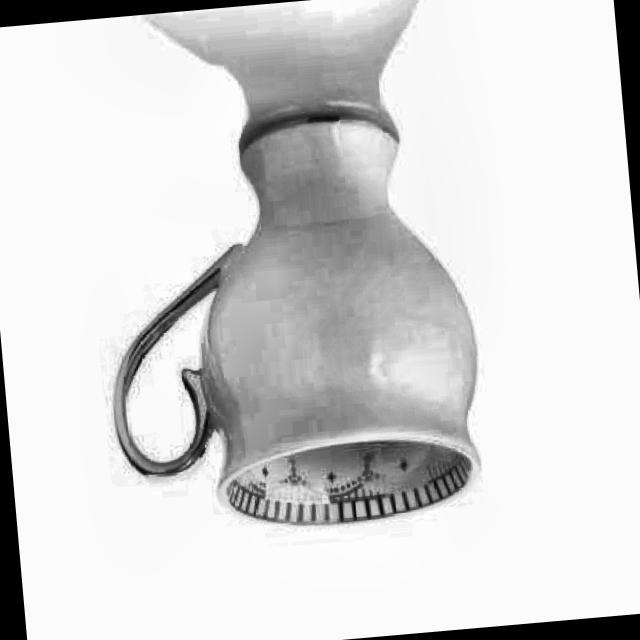Mug: (86, 96, 494, 546)
